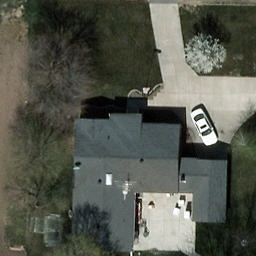car: (189, 106, 219, 146)
